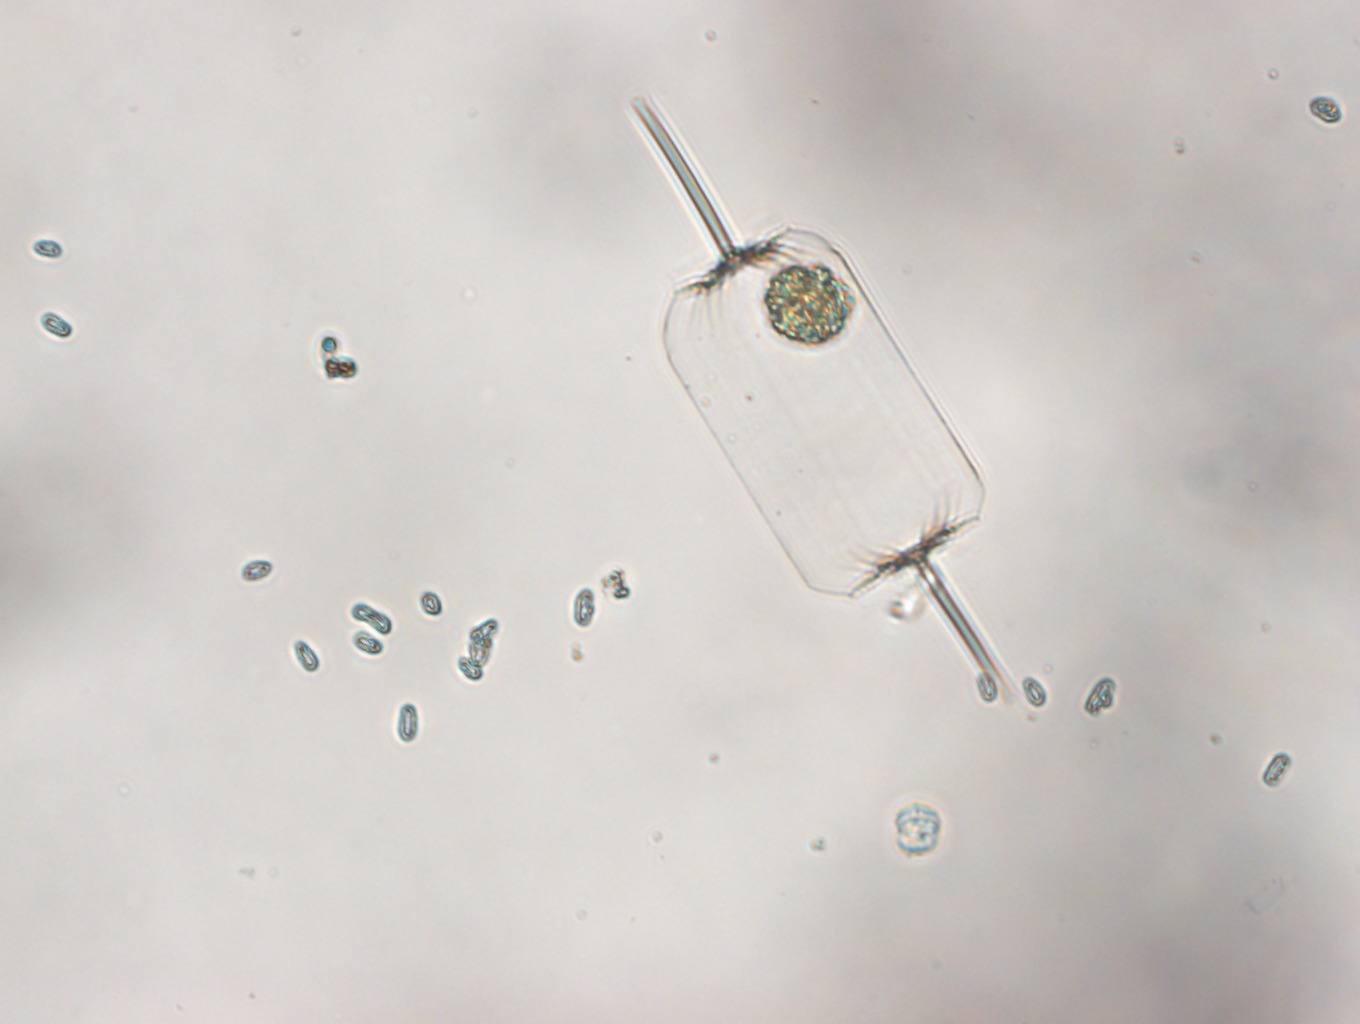ditylum: (621, 89, 1022, 711)
